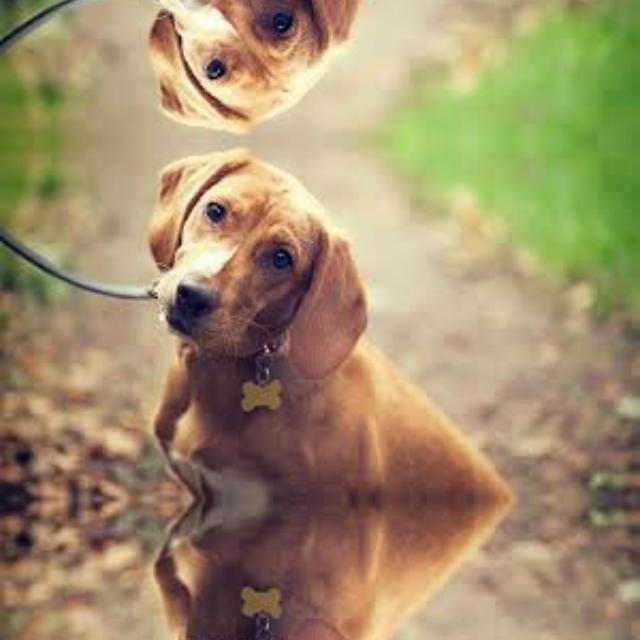dog: (128, 146, 490, 498), (128, 498, 489, 640), (128, 0, 489, 134)
